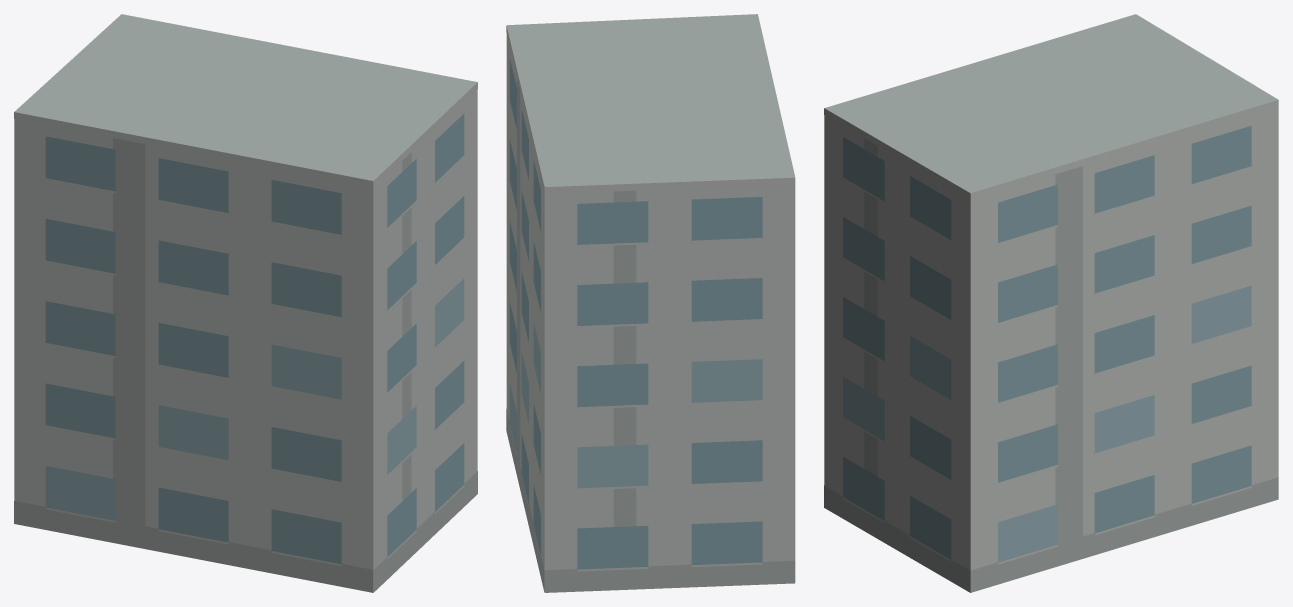
File: survey-upis-32826910.glb
3 views of the same model, side by side, from view 1: azimuth 30°, elevation 25°; view 2: azimuth 150°, elevation 25°; view 3: azimuth 270°, elevation 25° (orthographic). The views are drawn at different scales.
Parts seen in each view (by area): view 1: survey-upis-32826910.tmp; view 2: survey-upis-32826910.tmp; view 3: survey-upis-32826910.tmp.
Boxes of the visible parts, box(x1,y1,x2,y2) form: survey-upis-32826910.tmp: box(14, 14, 477, 592); survey-upis-32826910.tmp: box(506, 14, 795, 592); survey-upis-32826910.tmp: box(824, 14, 1278, 592).
Size of the model in its own units: 13.66 by 14.2 by 14.64.
